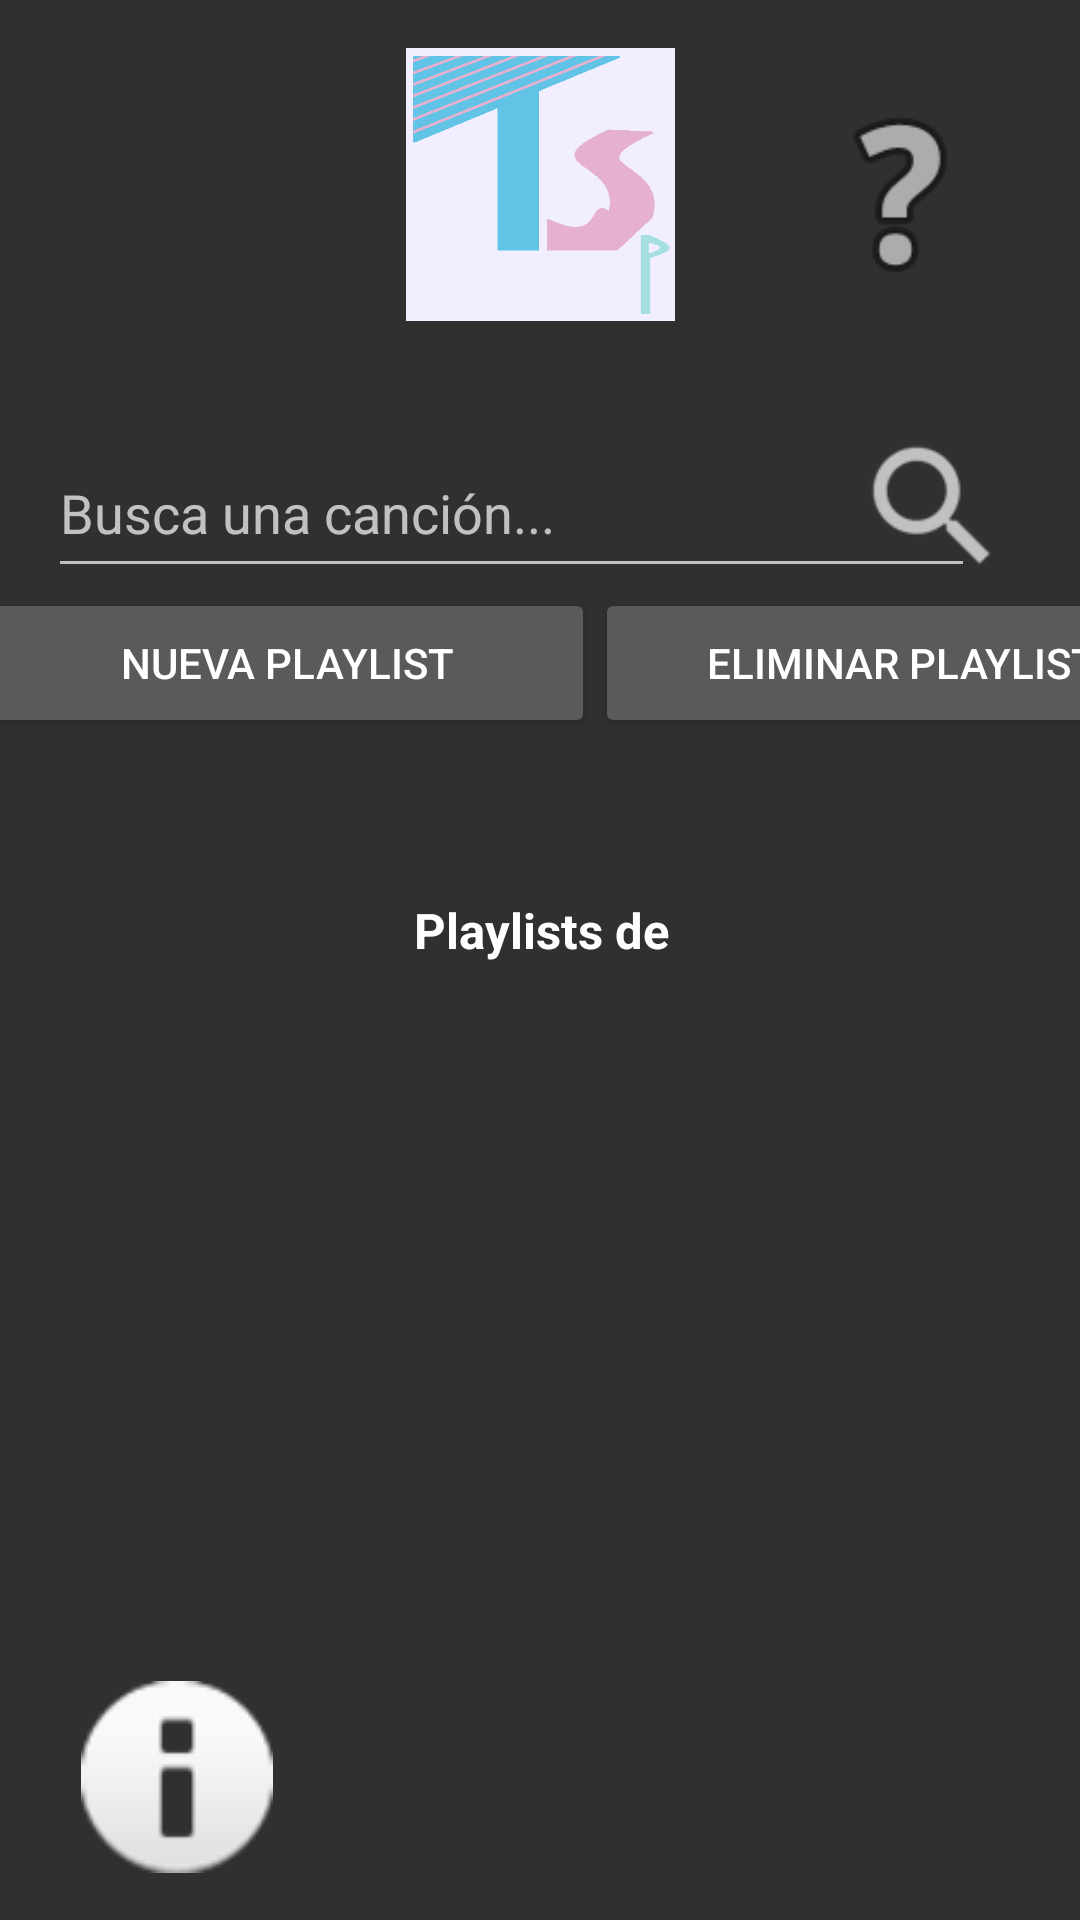

Icon click points for this 1080*1920 phone screenshot, format point (x, y):
help: point (900, 195)
info: point (177, 1777)
